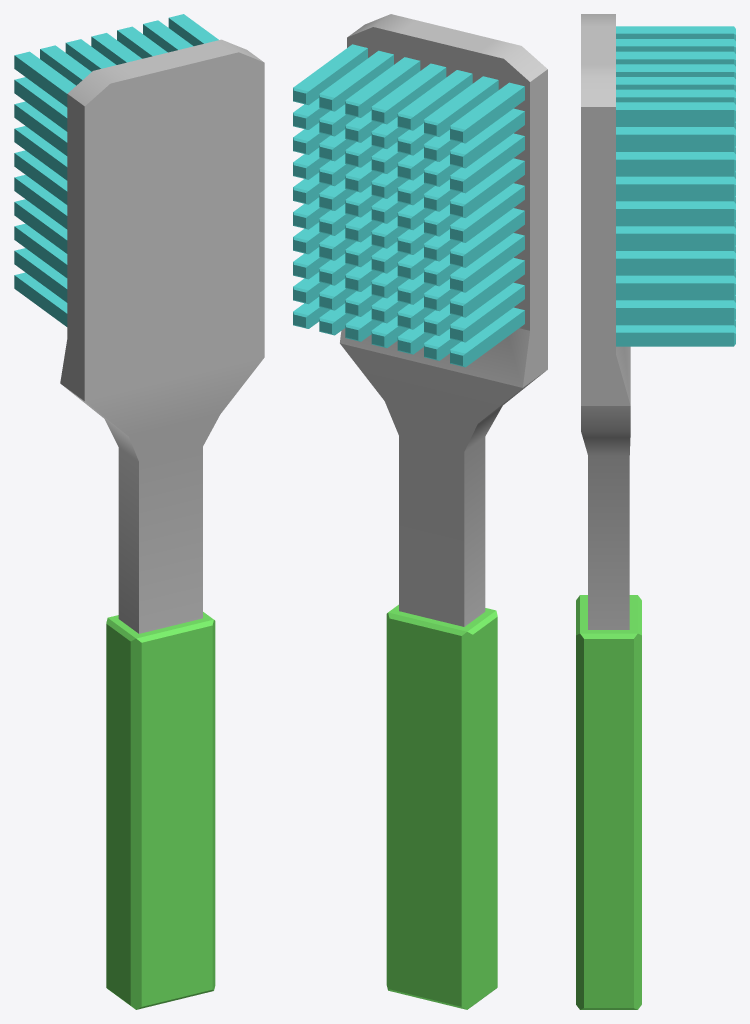
The model's file is Asset014_Packdeitens01_Escovadedentes.fbx.
3 views of the same model, side by side, from view 1: azimuth 30°, elevation 25°; view 2: azimuth 150°, elevation 25°; view 3: azimuth 270°, elevation 25° (orthographic).
Visible parts, largest first — view 1: Escova_de_Dentes; view 2: Escova_de_Dentes; view 3: Escova_de_Dentes.
Boxes of the visible parts, x1,y1,x2,y2 form: Escova_de_Dentes: (14, 14, 264, 1009); Escova_de_Dentes: (293, 14, 547, 1009); Escova_de_Dentes: (576, 14, 735, 1009).
Bounding box in the file's own units: 10 × 49.56 × 7.6.
